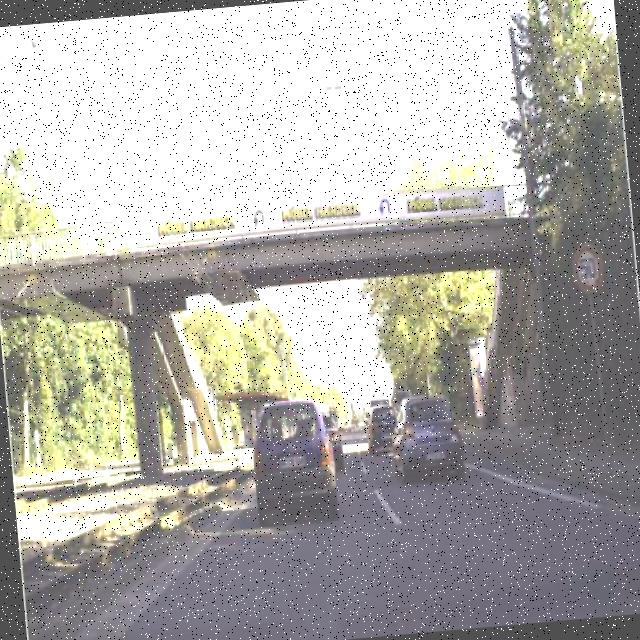Ograniczenie predkosci do 50: (568, 240, 605, 298)
